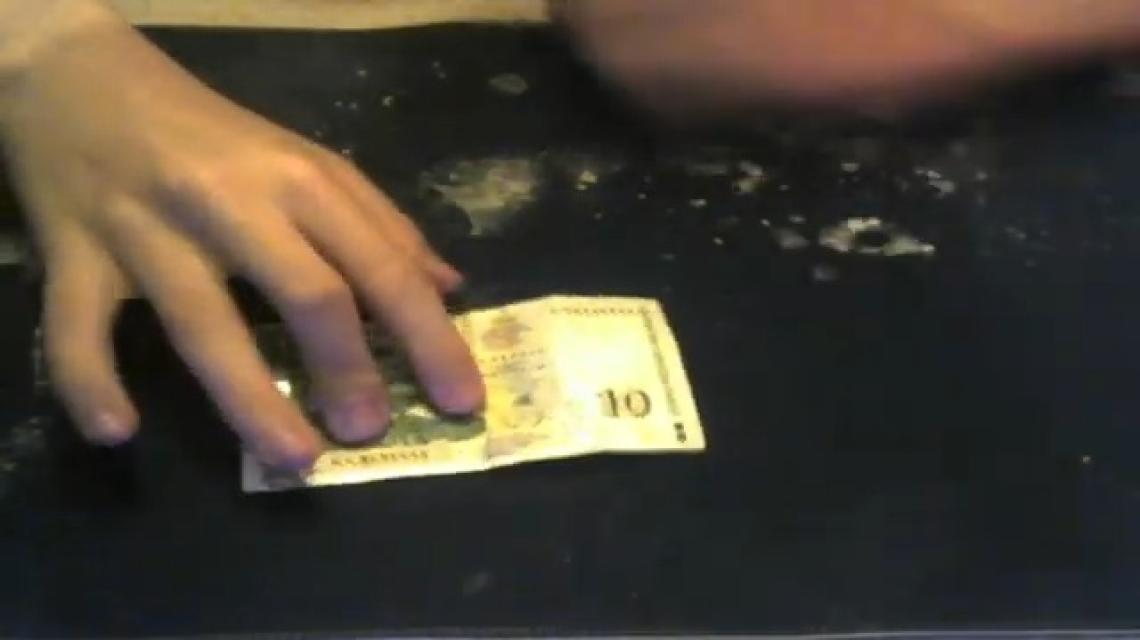10leva: (248, 295, 704, 489)
